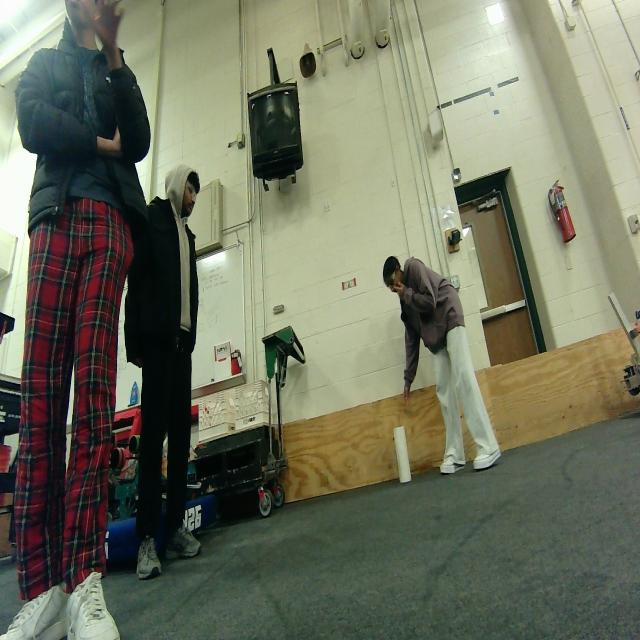coral: (394, 426, 412, 484)
